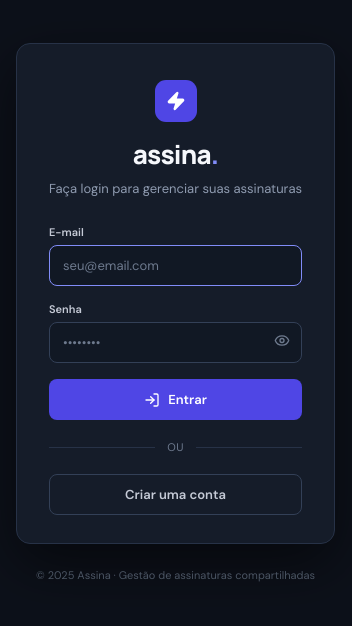
Test: App - Login › rejects wrong password
The image size is (352, 626).
Type "admin@test.com" into the field with placeholder "seu@email.com" at [176, 266], box [49,245,302,286]
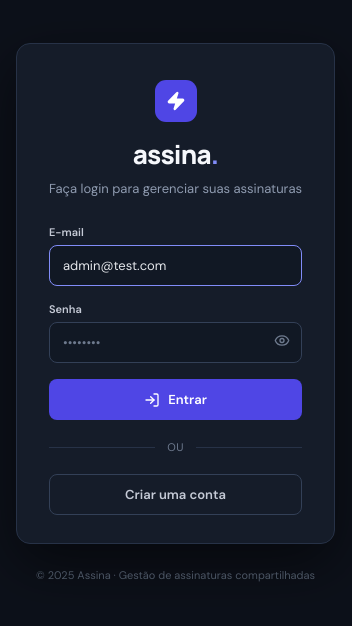
Type "wrong" into the password field with placeholder "••••••••" at [176, 342], box [49,322,302,363]
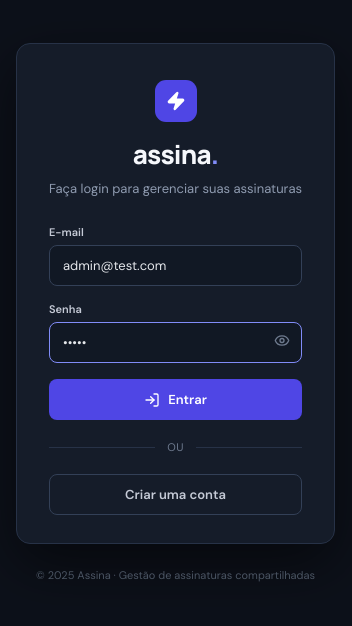
Click the button "Entrar" at [176, 400], box [49,379,302,420]
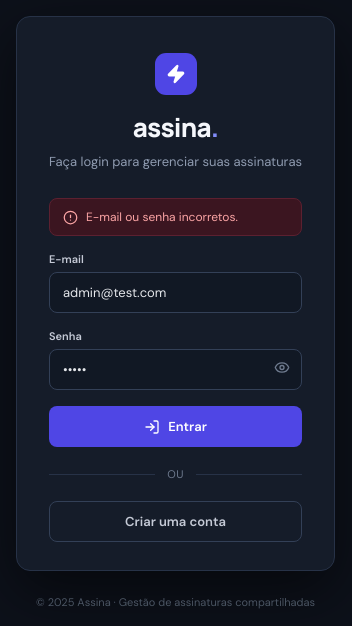
expect the text "E-mail ou senha incorretos." is shown: met, box [49,198,302,236]
